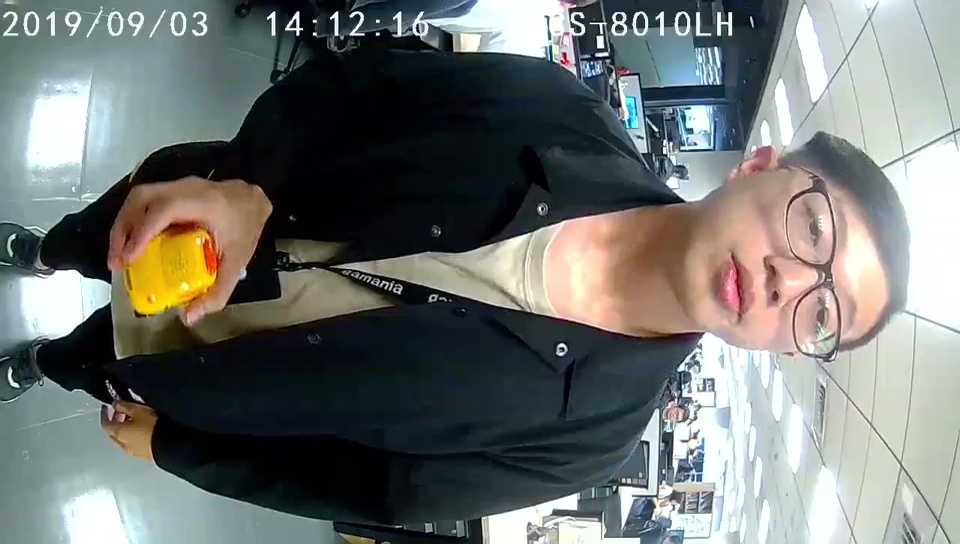car: (123, 228, 215, 313)
